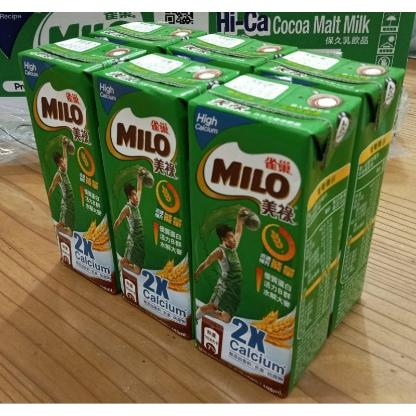Others: (188, 75, 361, 396), (93, 53, 239, 338), (266, 50, 405, 331), (19, 37, 145, 294), (167, 33, 297, 74), (90, 21, 206, 54)
